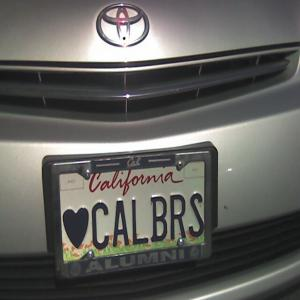Vehicle-registration-plate: (53, 151, 214, 281)
